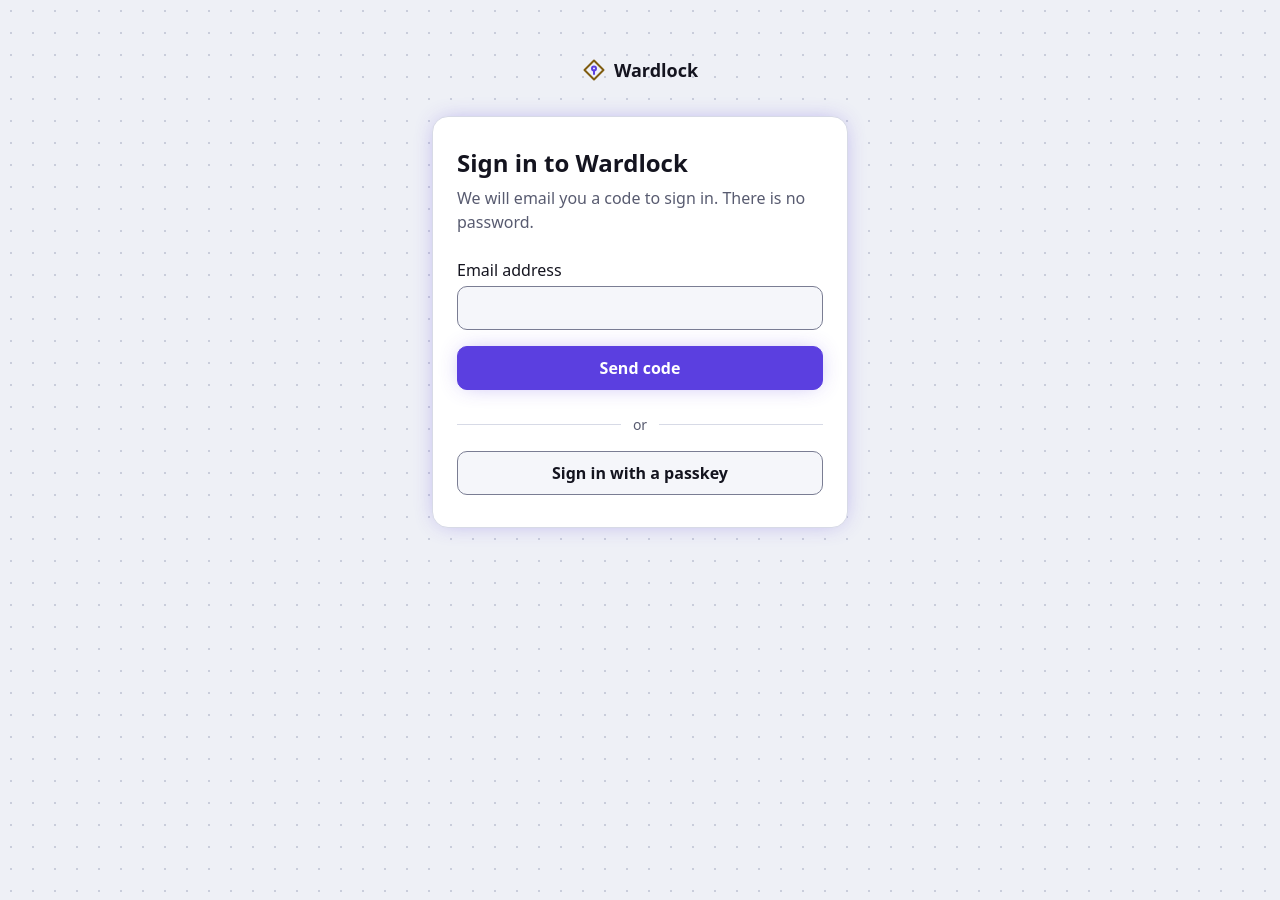
email-code sign-in › says how long to wait when rate-limited
Type "owner@example.test" into the field labelled "Email address". click: (640, 308)
box: [457,286,823,330]
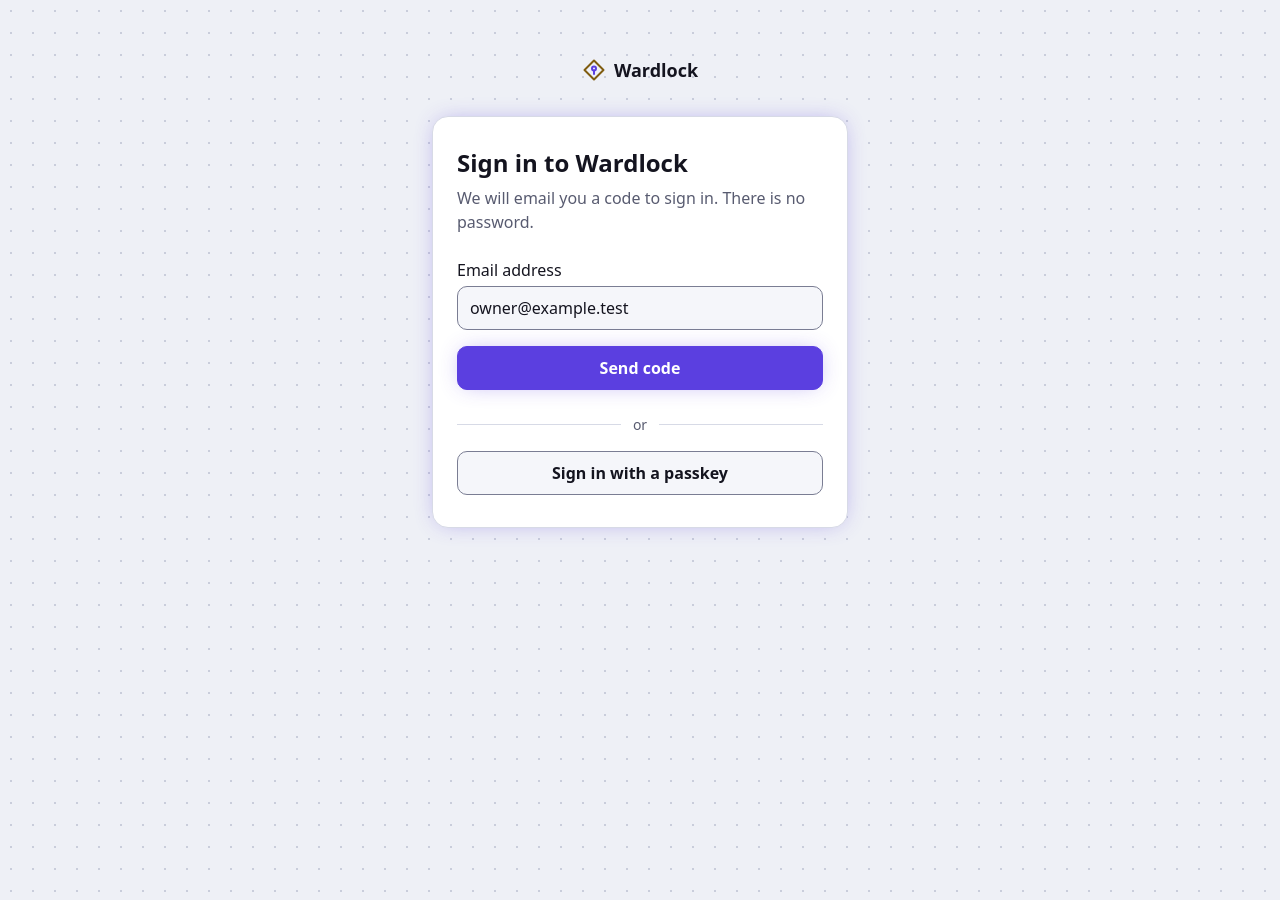
Click the button "Send code". click: click(640, 368)
box: [457,346,823,390]
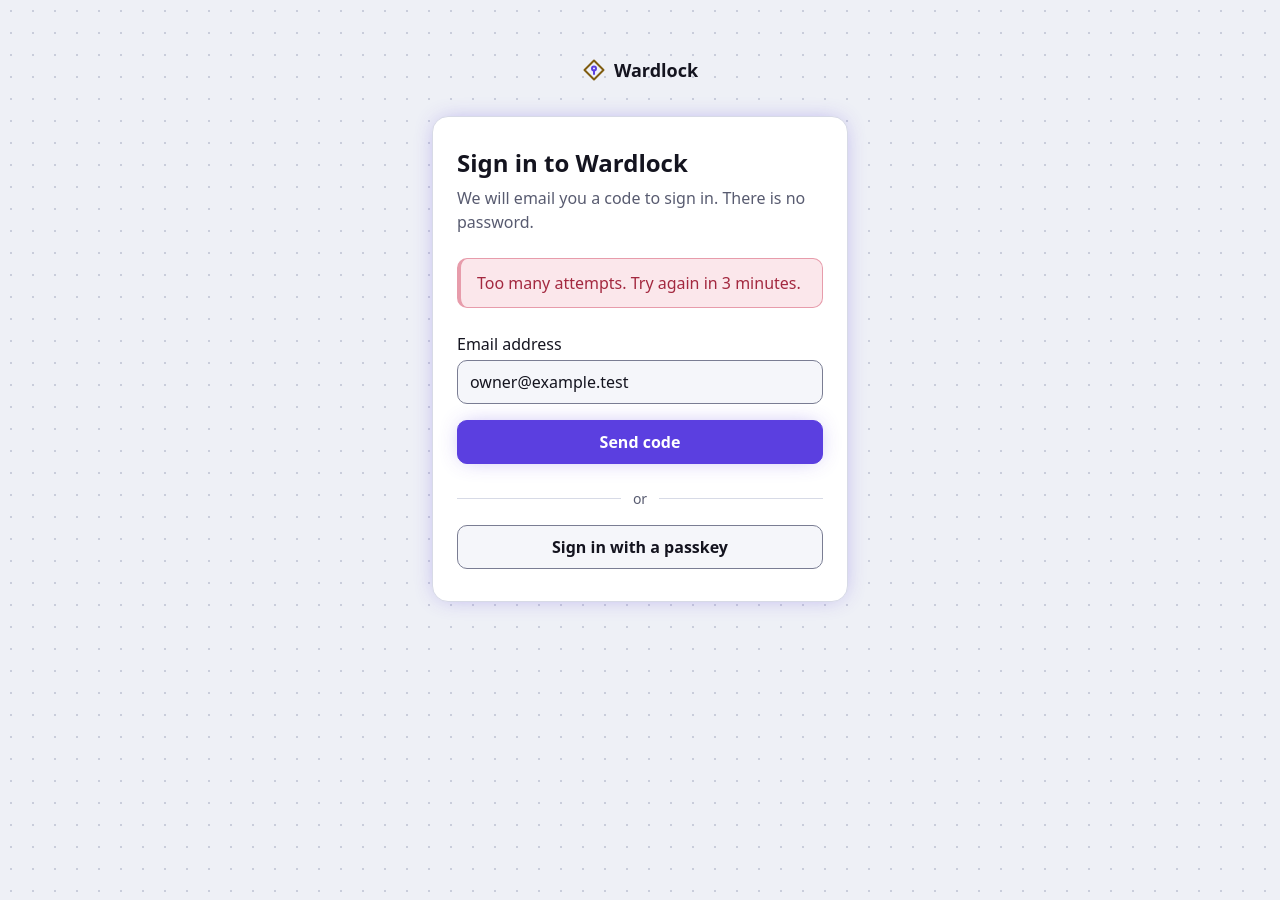
Check: the message reads "Too many attempts. Try again in 3 minutes.", box [477,272,801,294]
